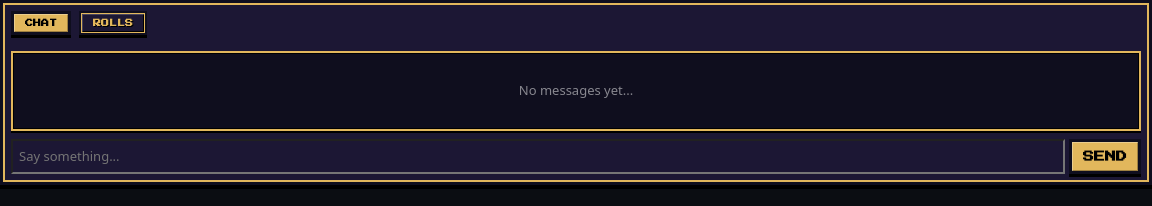
Chat & Rolls accessible tabs › moves focus and selection from ROLLS with ArrowRight to CHAT without bubbling
Click the tab "ROLLS": (113, 23) [79,11,147,35]
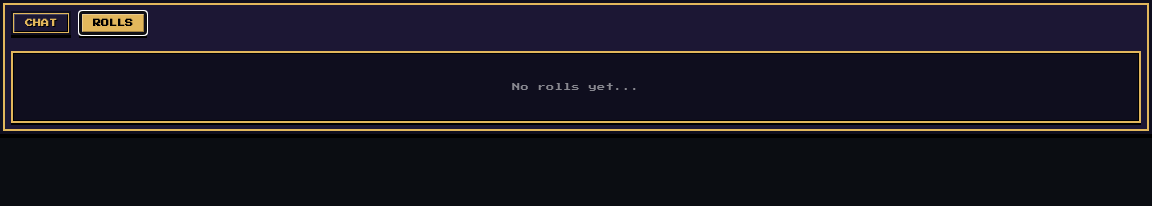
Press ArrowRight in the tab "ROLLS", box [79,11,147,35]
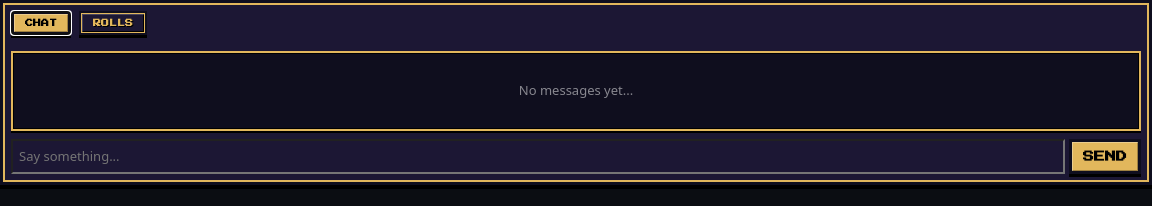
Expected: the panel named "CHAT" is shown, [11,51,1141,174]
